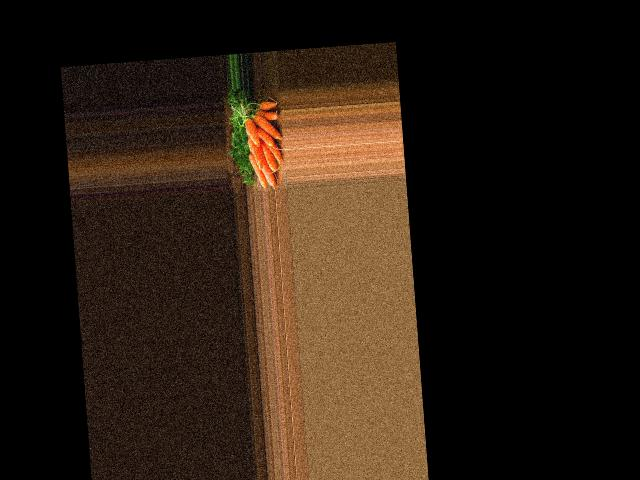carrot: (250, 110, 281, 141)
